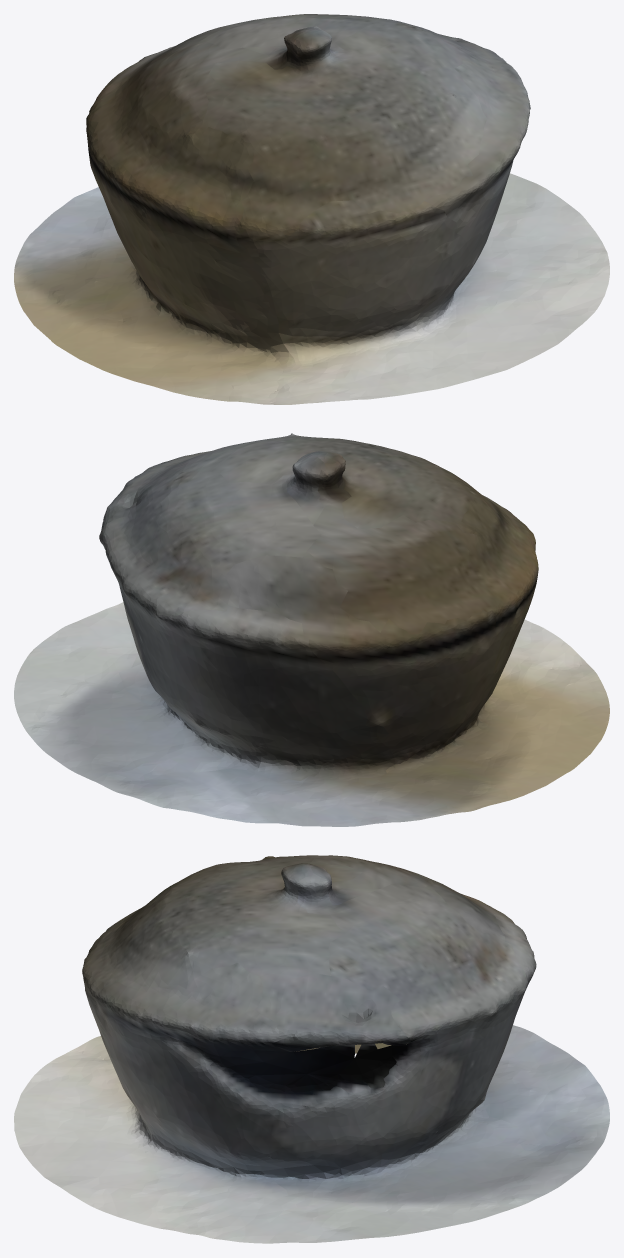
File: model12_small.glb
The picture shows the model from 3 angles, top to bottom: view 1: azimuth 30°, elevation 25°; view 2: azimuth 150°, elevation 25°; view 3: azimuth 270°, elevation 25°; orthographic projection.
Parts seen in each view (by area): view 1: mesh; view 2: mesh; view 3: mesh.
Boxes of the visible parts, x1,y1,x2,y2 form: mesh: (14, 14, 609, 404); mesh: (14, 433, 609, 826); mesh: (14, 855, 609, 1243).
Size of the model in its own units: 0.1512 by 0.071 by 0.1486.
1 material, 1 textured.
